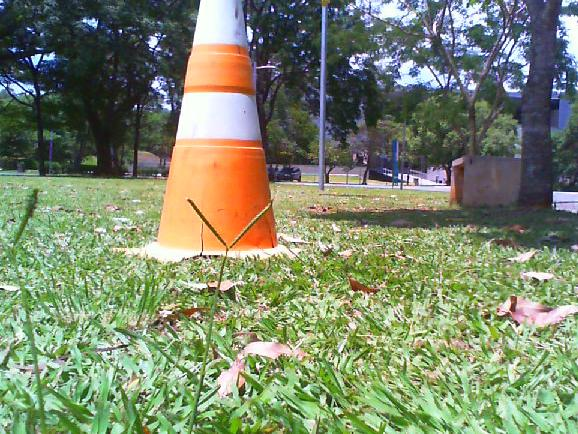0 cone: (141, 0, 300, 265)
